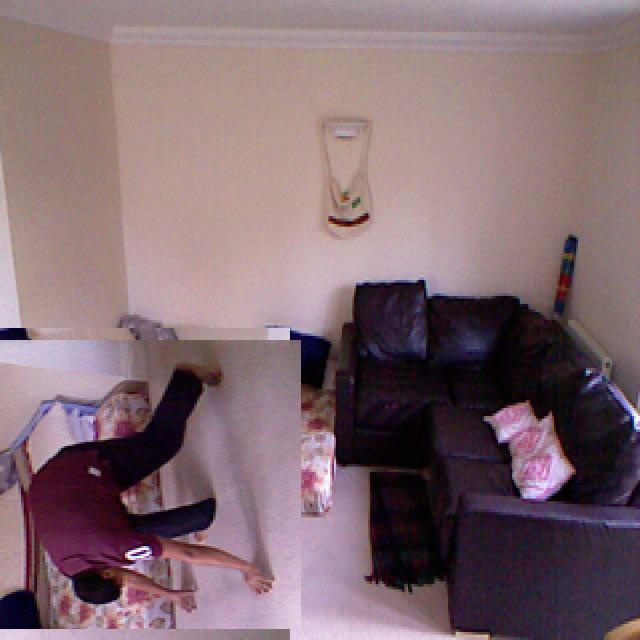Fall: (19, 374, 293, 626)
